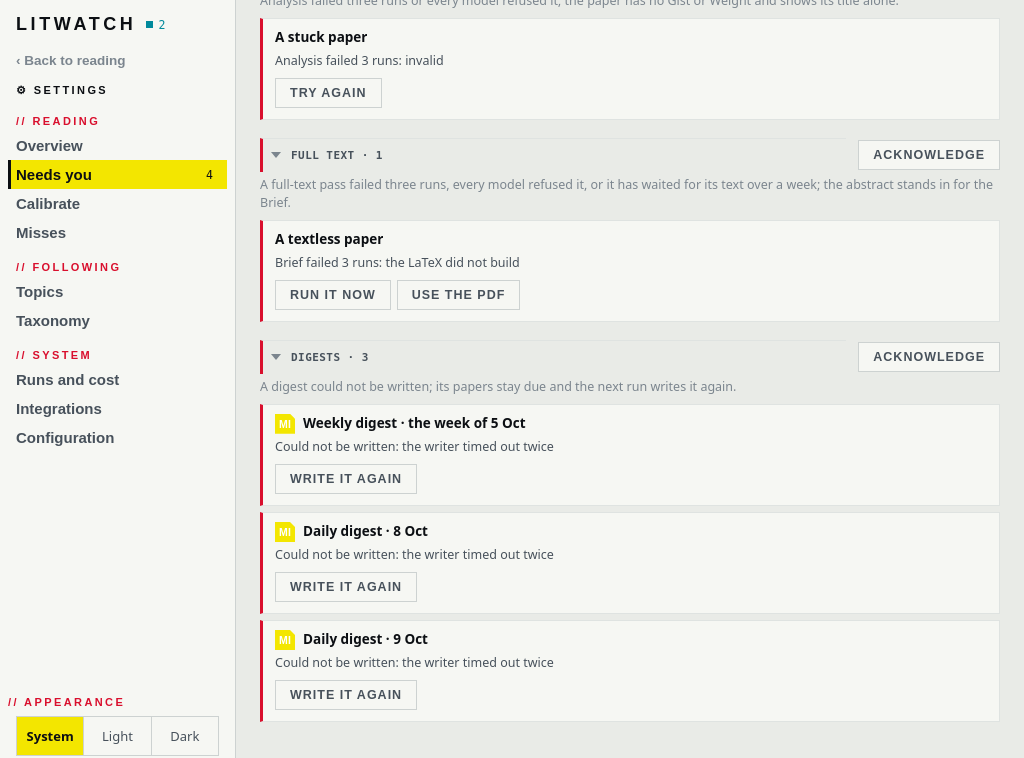
Settings › keeps a digest that failed again, or that the API would not write now, on the page with the reason
(page scrolled)
Click the button "Write it again" below "Weekly digest · the week of 5 Oct" at [346, 479], box [275,464,417,494]
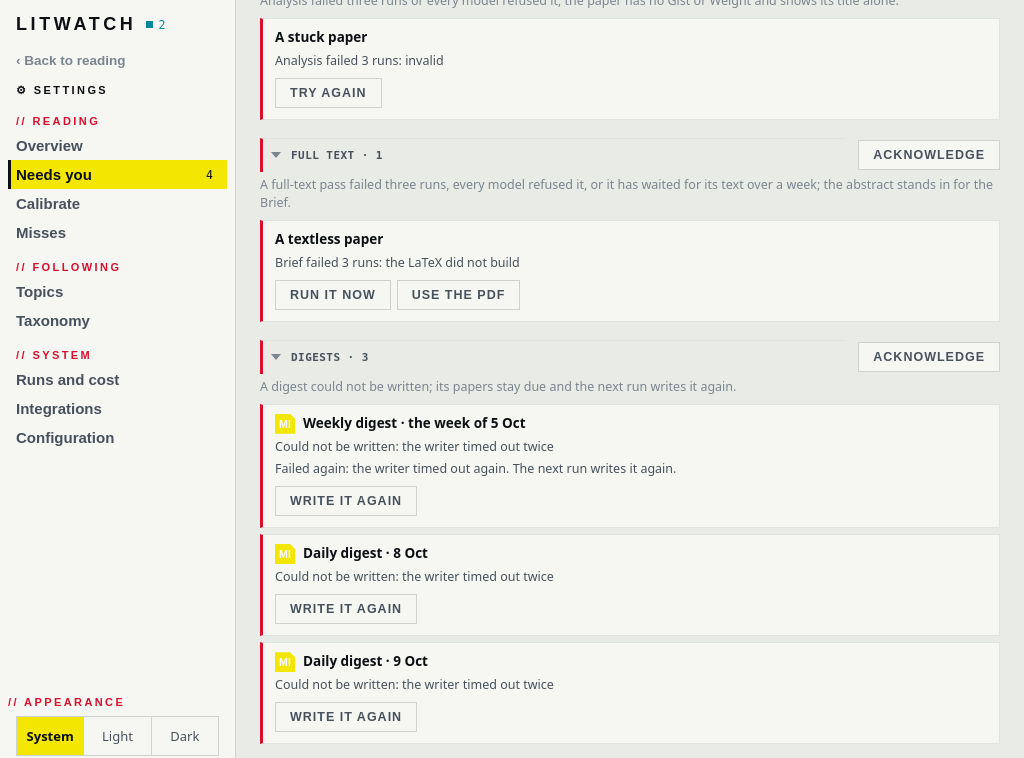
Expected: the button "Write it again" below "Weekly digest · the week of 5 Oct" is enabled, [275,486,417,516]
Now the text "Weekly digest · the week of 5 Oct" shows "Failed again: the writer timed out again. The next run writes it again.", box [275,460,676,477]
Click the button "Write it again" below "Daily digest · 8 Oct" at [346, 609], box [275,594,417,624]
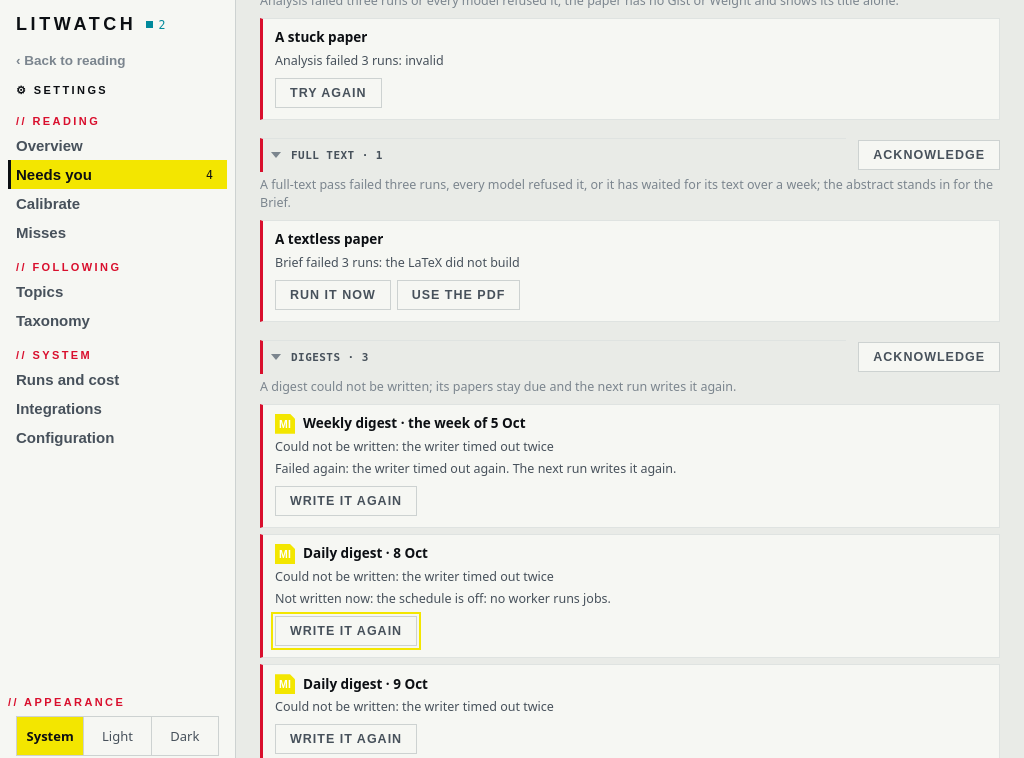
Expected: the button "Write it again" below "Daily digest · 8 Oct" is enabled, [275,616,417,646]
Now the text "Daily digest · 8 Oct" shows "Not written now: the schedule is off: no worker runs jobs.", box [275,590,611,607]
Click the button "Write it again" below "Daily digest · 9 Oct" at [346, 739], box [275,724,417,754]
(page scrolled)
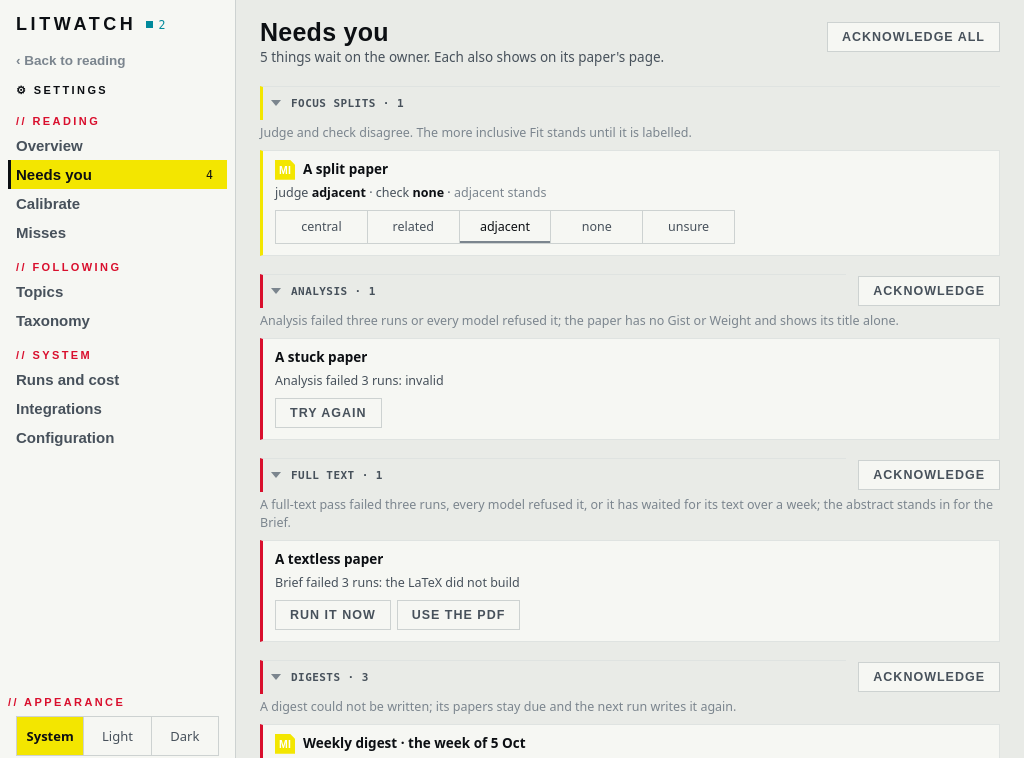
Now the text "5 things wait on the owner. Each also shows on its paper's page." is shown, box [260,48,664,66]
